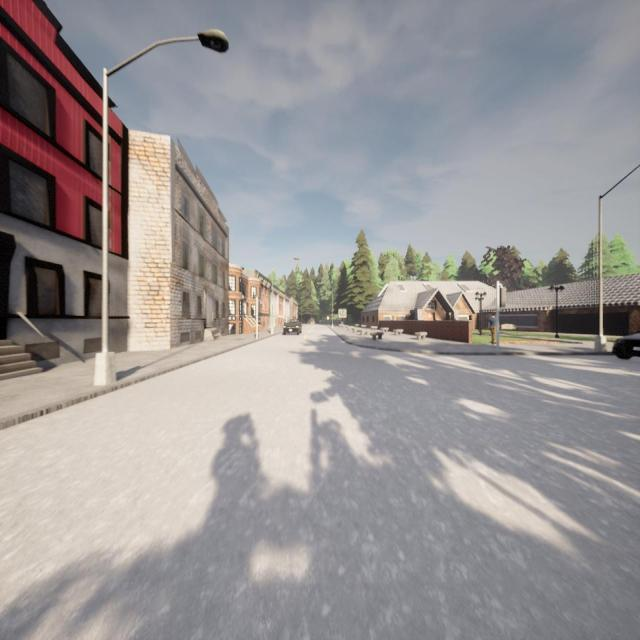Pedestrian: (488, 310, 497, 345)
Traffic_Signs: (326, 316, 330, 320)
Vehicle: (612, 332, 640, 361), (283, 318, 302, 335)
traffic_light: (500, 286, 505, 308), (258, 301, 260, 313)
